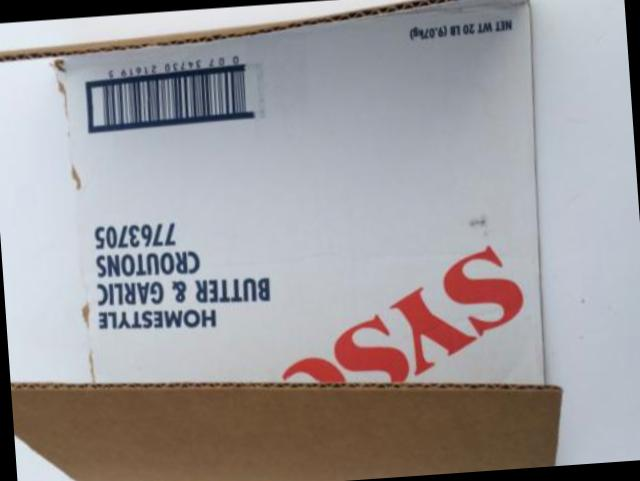cardboard paper: (0, 0, 557, 481)
